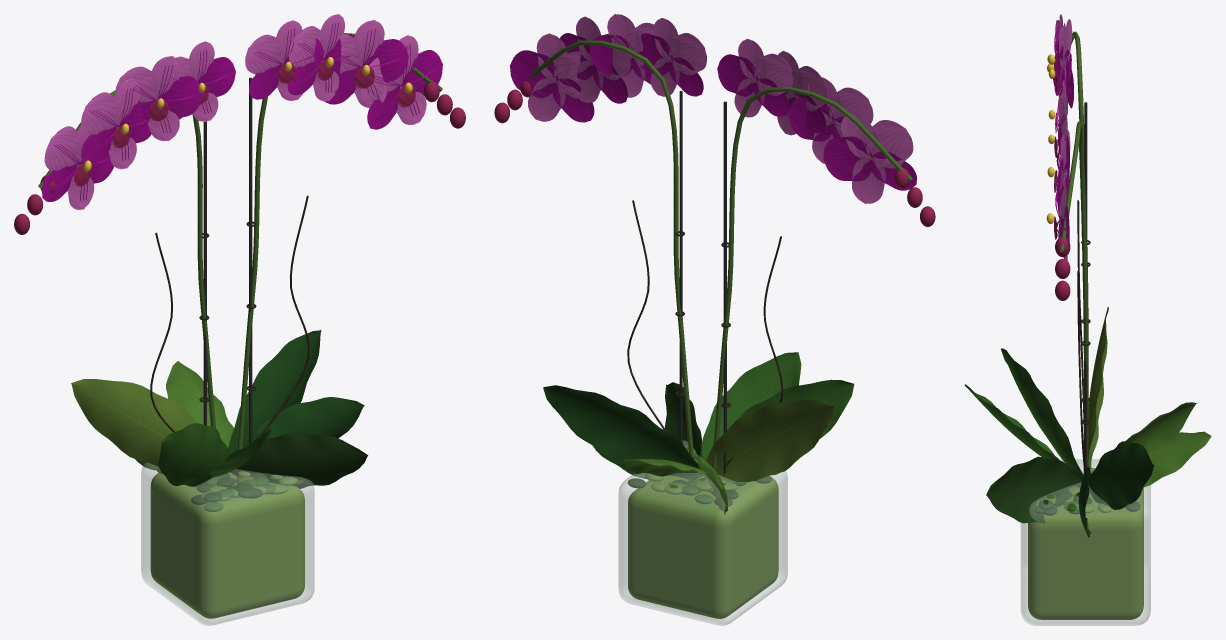
Rendered from 05-purple-orchid-glass-pot.glb.
3 renders of one model, left to right at view 1: azimuth 30°, elevation 25°; view 2: azimuth 150°, elevation 25°; view 3: azimuth 270°, elevation 25°, orthographic. The views are drawn at different scales.
Parts seen in each view (by area): view 1: Clear glass, Living moss, Light magenta petals, Magenta orchid petals, Leaf green 0, Leaf green 4, Leaf green 3, Leaf green 1, Botanical stems, Deep rose flower throat, Leaf green 2, Charcoal steel (+1 smaller); view 2: Clear glass, Living moss, Light magenta petals, Magenta orchid petals, Leaf green 4, Leaf green 0, Botanical stems, Leaf green 1, Charcoal steel, Leaf green 2, Leaf green 3, Deep rose flower throat (+1 smaller); view 3: Clear glass, Living moss, Leaf green 3, Leaf green 0, Leaf green 1, Leaf green 2, Botanical stems, Magenta orchid petals, Light magenta petals, Leaf green 4, Woven brown rattan, Deep rose flower throat (+2 smaller).
Boxes of the visible parts, x1,y1,x2,y2 form: Clear glass: (141,463,314,625); Living moss: (150,472,304,618); Light magenta petals: (44,14,426,209); Magenta orchid petals: (42,23,442,201); Leaf green 0: (196,330,364,502); Leaf green 4: (71,379,280,500); Leaf green 3: (157,432,367,504); Leaf green 1: (158,423,276,512); Botanical stems: (38,33,442,450); Deep rose flower throat: (14,59,465,234); Leaf green 2: (135,361,297,501); Charcoal steel: (203,77,252,444); Clear glass: (618,440,787,625); Living moss: (628,475,778,618); Light magenta petals: (528,14,913,203); Magenta orchid petals: (510,33,916,190); Leaf green 4: (651,399,833,494); Leaf green 0: (543,385,746,490); Botanical stems: (530,40,912,470); Leaf green 1: (668,352,854,504); Charcoal steel: (679,90,726,473); Leaf green 2: (620,445,737,514); Leaf green 3: (627,382,771,506); Deep rose flower throat: (494,81,935,226); Clear glass: (1020,459,1150,625); Living moss: (1028,473,1143,619); Leaf green 3: (986,456,1140,523); Leaf green 0: (1038,441,1154,537); Leaf green 1: (964,348,1083,511); Leaf green 2: (1036,402,1211,513); Botanical stems: (1059,31,1088,483); Magenta orchid petals: (1054,23,1073,258); Light magenta petals: (1055,14,1072,260); Leaf green 4: (1064,307,1108,503); Woven brown rattan: (1077,200,1090,474); Deep rose flower throat: (1053,56,1070,300).
Bounding box in the file's own units: 0.516 × 0.6251 × 0.256.
14 materials, 8 textured.
